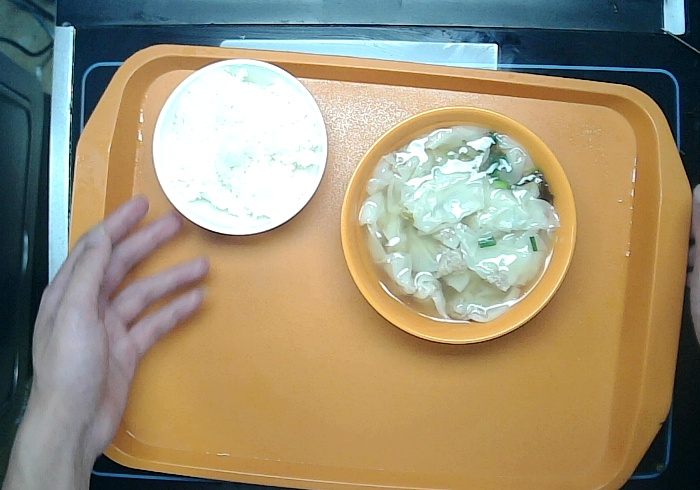NLDX-Fan_Wan: (150, 56, 331, 237)
NLDX-Hun_Tun_Wan: (337, 102, 579, 348)
